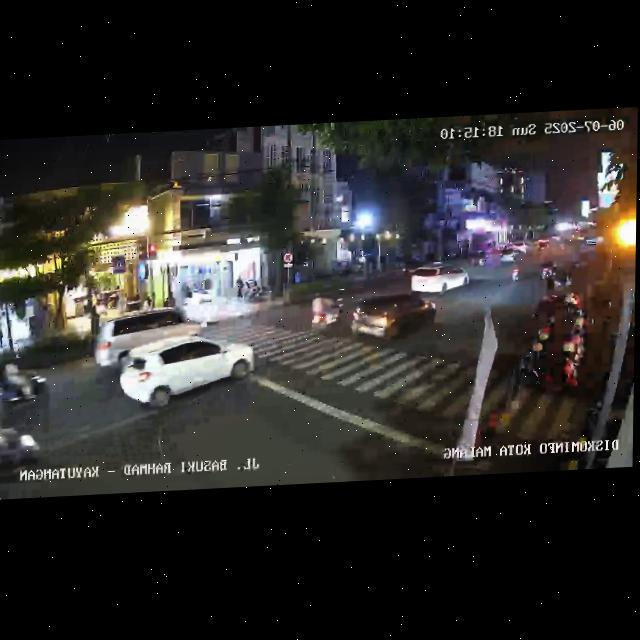car: (116, 331, 257, 415), (92, 306, 206, 376), (349, 289, 437, 348), (410, 262, 469, 298), (497, 245, 522, 264), (535, 237, 551, 252)
motorcycle: (0, 411, 43, 494), (0, 357, 49, 416), (309, 290, 345, 337), (540, 262, 555, 289), (509, 258, 522, 284), (475, 249, 488, 267)
person: (237, 276, 246, 300), (0, 324, 3, 348)
